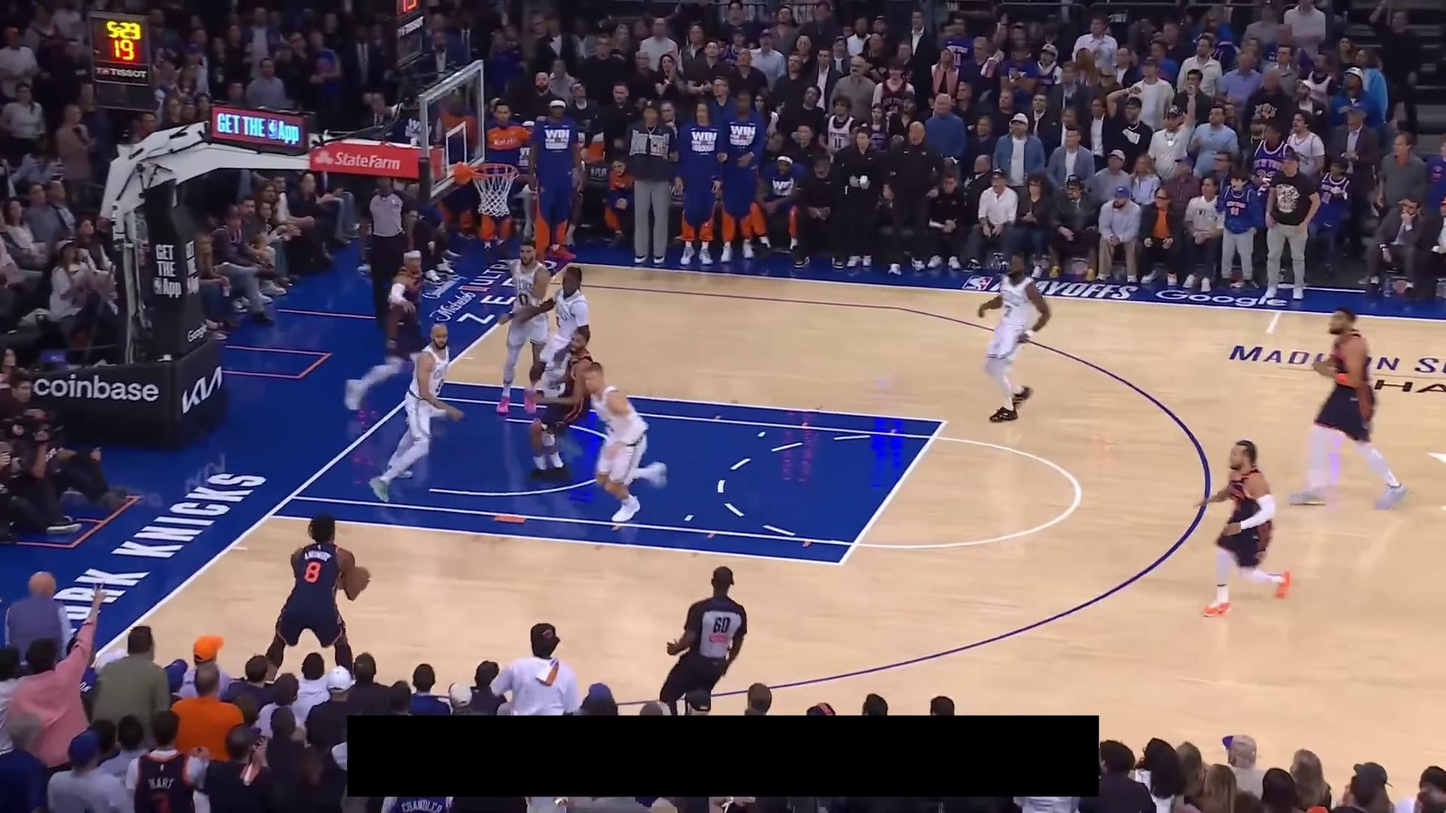ball: (346, 564, 370, 592)
number: (303, 558, 321, 585), (518, 291, 530, 307), (1002, 304, 1013, 318)
player: (1286, 303, 1408, 508), (1192, 439, 1291, 622), (368, 320, 465, 505), (339, 248, 432, 415), (581, 357, 670, 528), (977, 248, 1055, 426), (523, 323, 606, 481), (516, 263, 591, 426), (492, 237, 555, 417)
player-in-possession: (256, 509, 371, 674)
referee: (658, 564, 749, 713), (357, 174, 415, 326)
rim: (469, 160, 524, 182)
